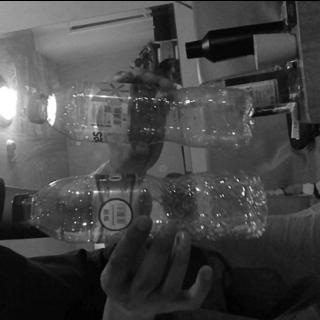plastic_bottles: (8, 168, 266, 245), (29, 83, 256, 150)
